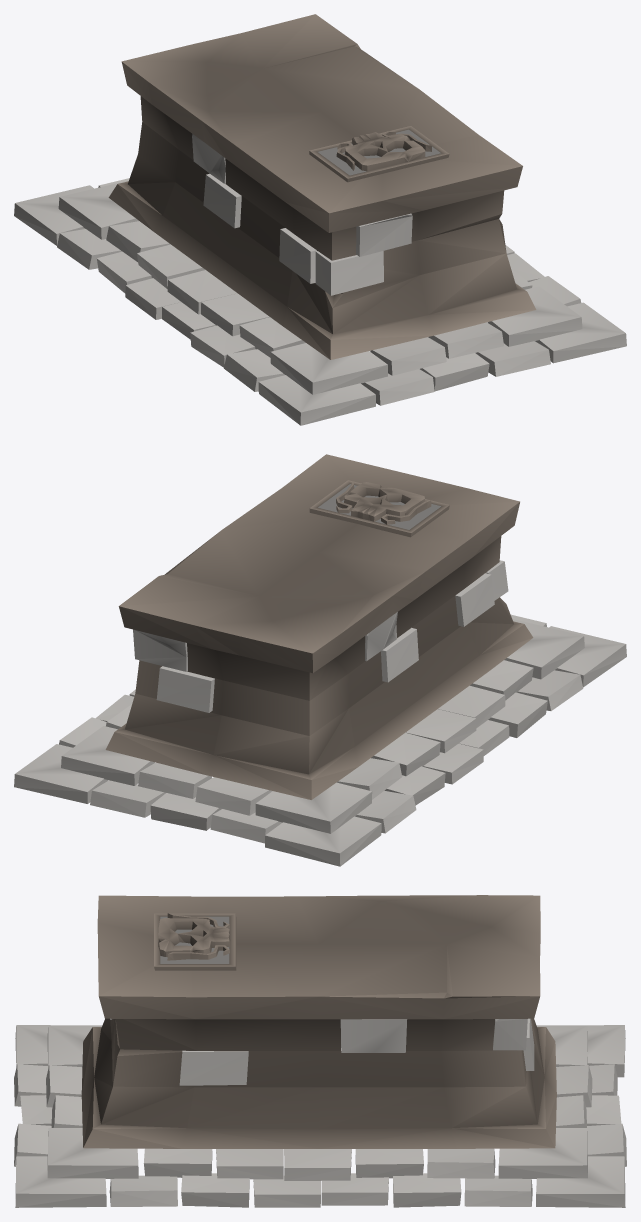
Rendered from obj_tomb_LOW.FBX.
3 views of the same model, one above another, from view 1: azimuth 30°, elevation 25°; view 2: azimuth 150°, elevation 25°; view 3: azimuth 270°, elevation 25° (orthographic). The views are drawn at different scales.
Parts seen in each view (by area): view 1: obj_tomb_LOW; view 2: obj_tomb_LOW; view 3: obj_tomb_LOW.
Boxes of the visible parts, <box> form: obj_tomb_LOW: <box>14,14,626,425</box>; obj_tomb_LOW: <box>14,454,626,866</box>; obj_tomb_LOW: <box>14,895,626,1207</box>.
Bounding box in the file's own units: 2.89 × 1.52 × 4.38.
